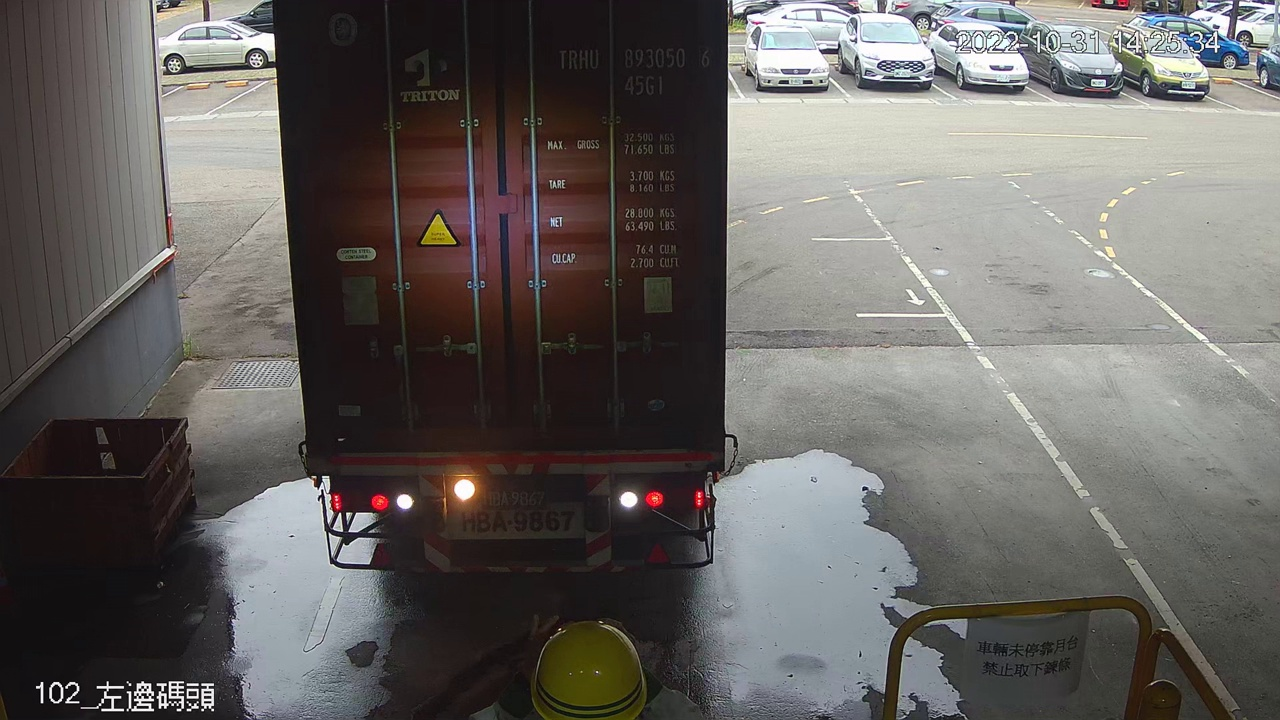container: (550, 38, 717, 98)
